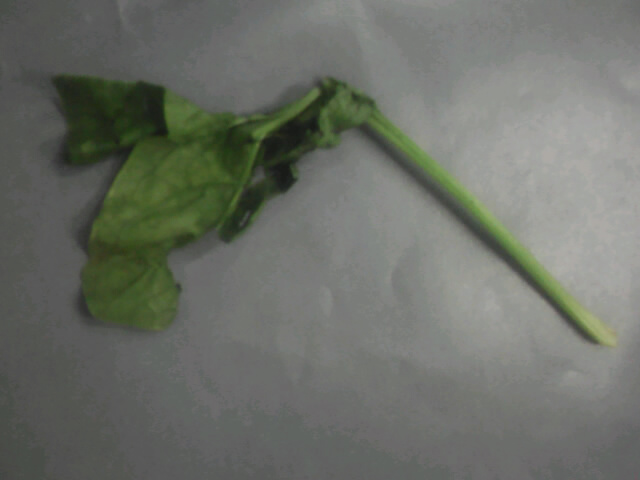yellow: (37, 50, 414, 363)
